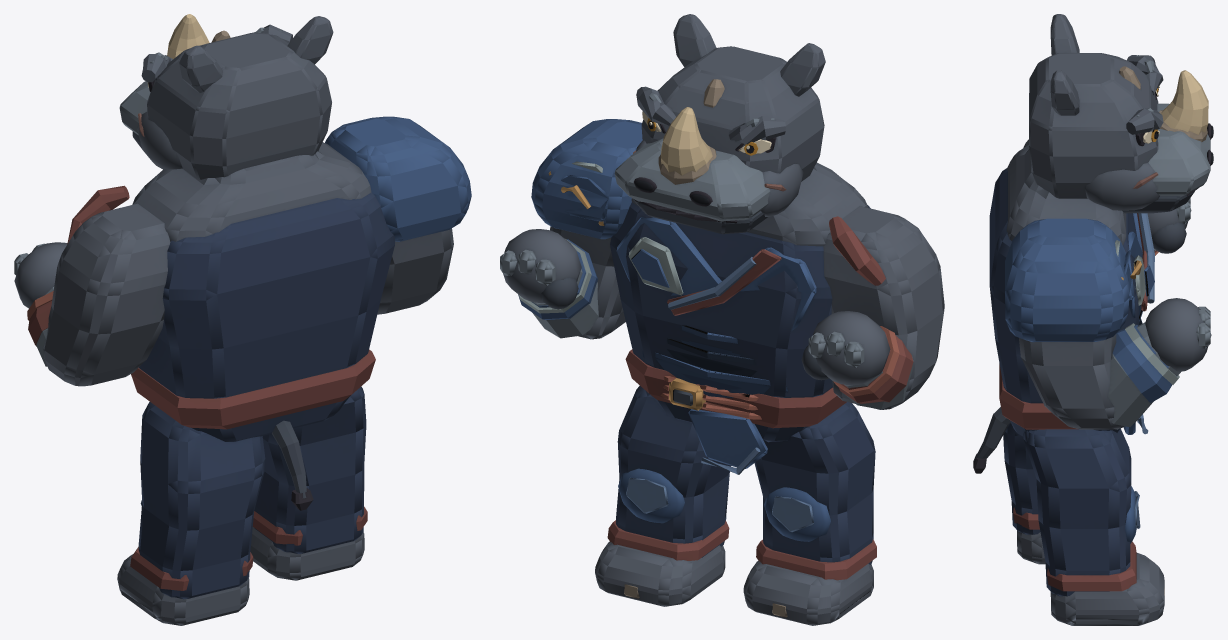
Rendered from Granite_Rhino.glb.
3 renders of one model, left to right at view 1: azimuth 30°, elevation 25°; view 2: azimuth 150°, elevation 25°; view 3: azimuth 270°, elevation 25°, orthographic. The views are drawn at different scales.
Parts seen in each view (by area): view 1: Torso_Shell, Head_Shell, Left_Leg_Shell, Left_Arm_Shell, Right_Arm_Shell, Right_Leg_Shell, Tail_Shell; view 2: Torso_Shell, Head_Shell, Left_Leg_Shell, Left_Arm_Shell, Right_Leg_Shell, Right_Arm_Shell; view 3: Right_Arm_Shell, Head_Shell, Right_Leg_Shell, Torso_Shell, Left_Leg_Shell, Left_Arm_Shell, Tail_Shell.
Part boxes in pixels (x1,y1,x2,y2): Torso_Shell: (131, 142, 394, 441); Head_Shell: (119, 14, 333, 179); Left_Leg_Shell: (117, 402, 265, 625); Left_Arm_Shell: (14, 185, 170, 386); Right_Arm_Shell: (325, 116, 471, 314); Right_Leg_Shell: (250, 386, 367, 580); Tail_Shell: (272, 420, 313, 510); Torso_Shell: (610, 162, 870, 474); Head_Shell: (614, 14, 825, 234); Left_Leg_Shell: (743, 402, 876, 625); Left_Arm_Shell: (801, 206, 944, 409); Right_Leg_Shell: (595, 385, 730, 606); Right_Arm_Shell: (500, 119, 642, 339); Right_Arm_Shell: (1005, 218, 1211, 429); Head_Shell: (1029, 14, 1213, 213); Right_Leg_Shell: (1023, 428, 1164, 625); Torso_Shell: (989, 145, 1154, 436); Left_Leg_Shell: (1003, 423, 1045, 564); Left_Arm_Shell: (1023, 139, 1191, 255); Tail_Shell: (973, 407, 1010, 473).
Bounding box in the file's own units: 4.05 × 5.55 × 2.27.
1 material, 1 textured.
